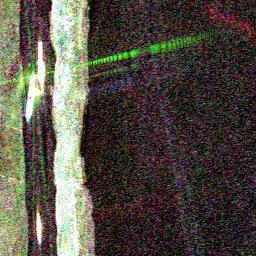Ship: (34, 38, 50, 91), (22, 74, 37, 122), (32, 205, 47, 247)
